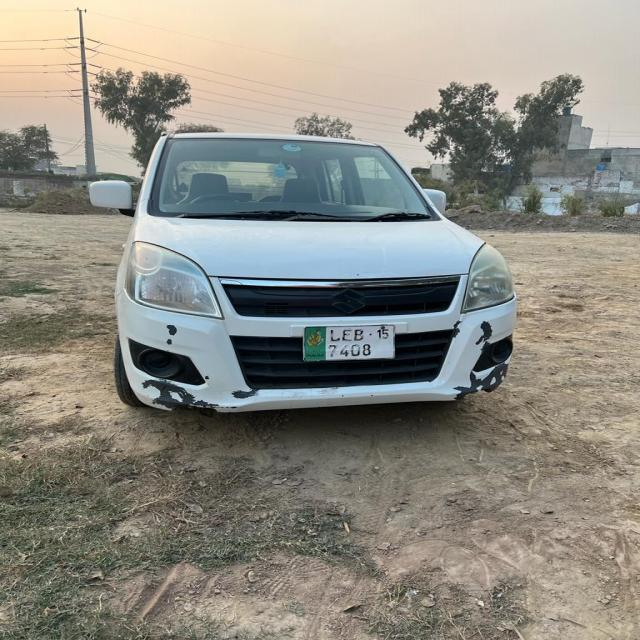scratch: (446, 316, 512, 410), (144, 379, 260, 415), (162, 321, 183, 348)
